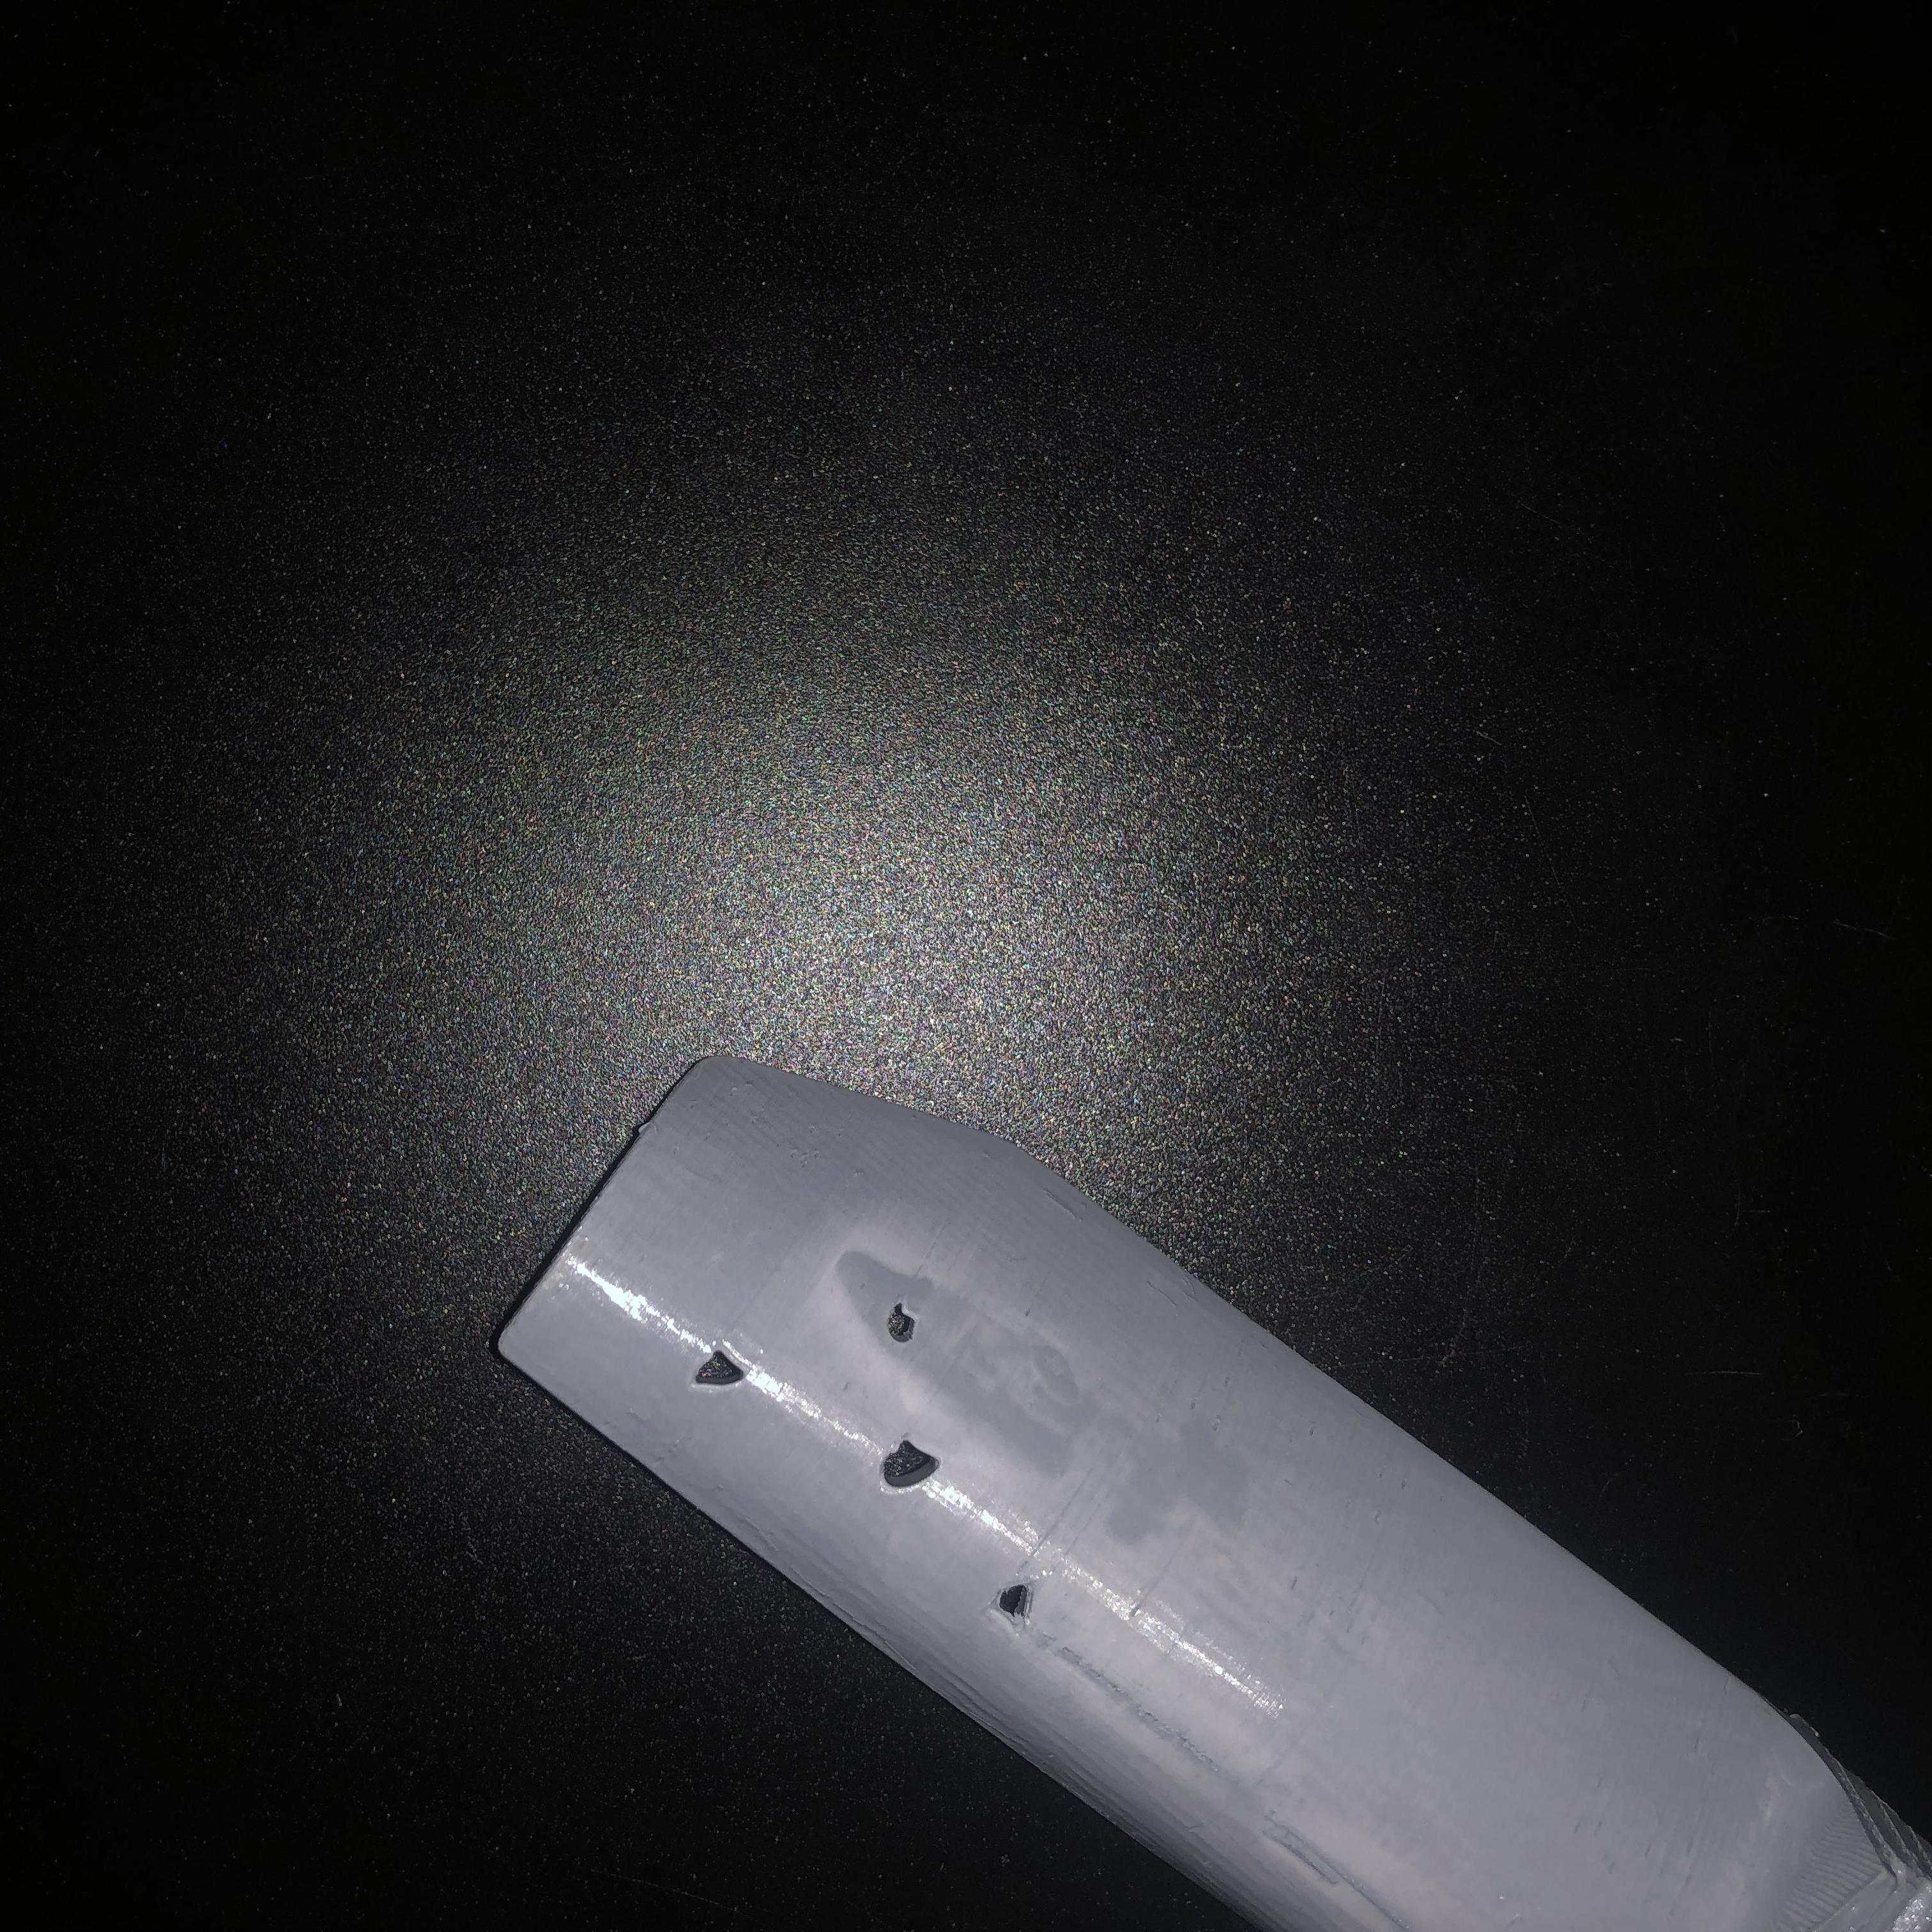breakdown: (688, 1297, 1039, 1628)
